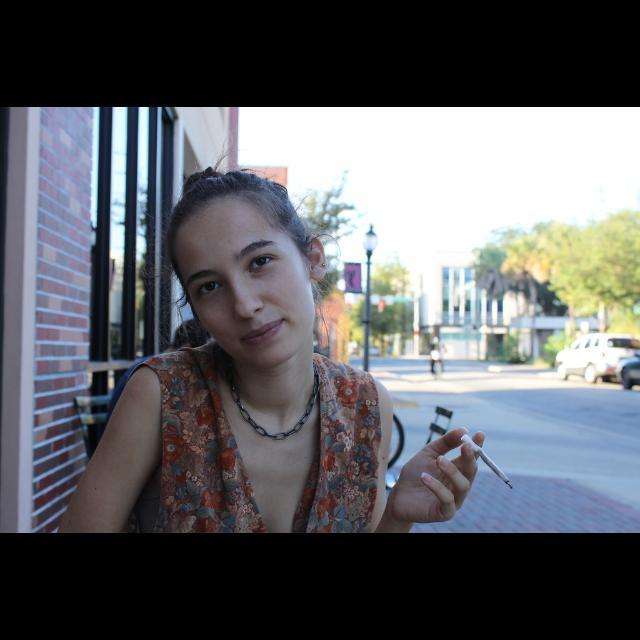rokok: (456, 431, 516, 494)
